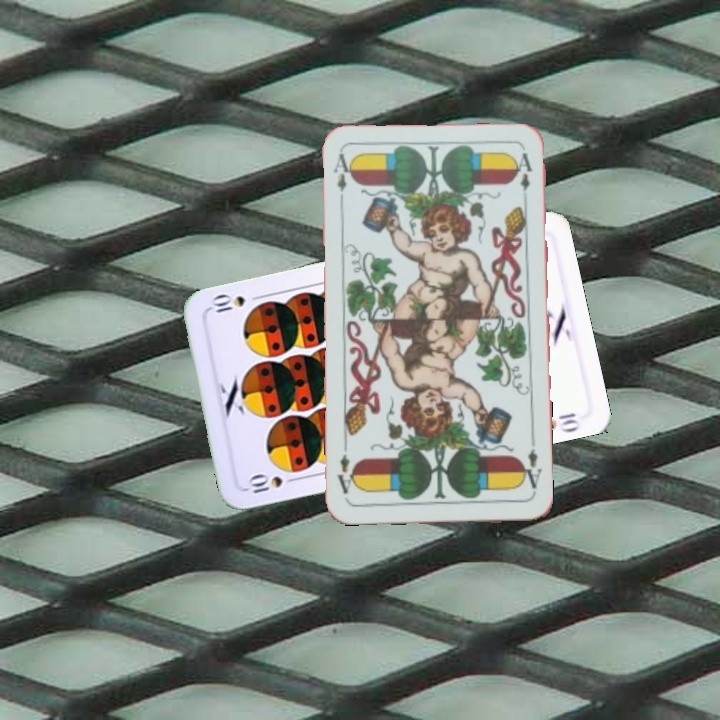EA: (517, 437, 544, 496), (329, 150, 355, 209)
S10: (244, 465, 302, 496)
